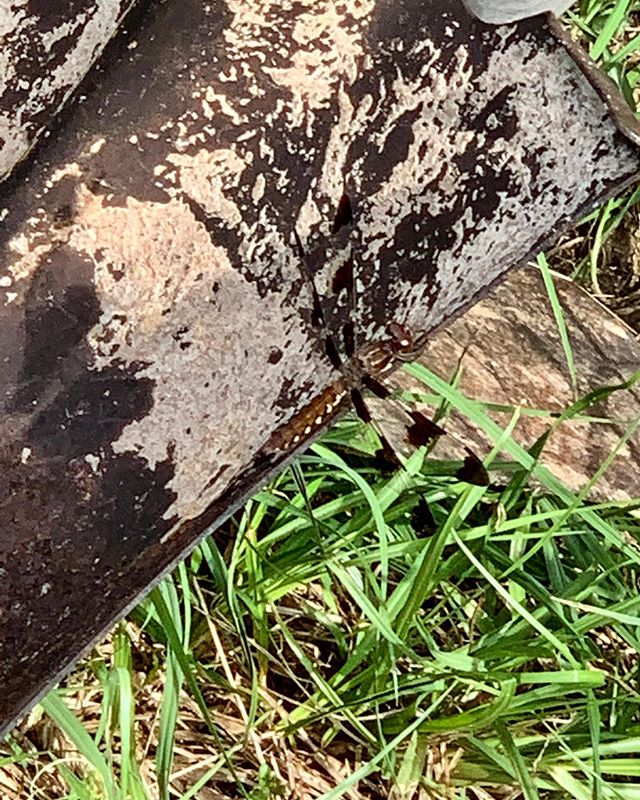insect: (179, 211, 504, 575)
